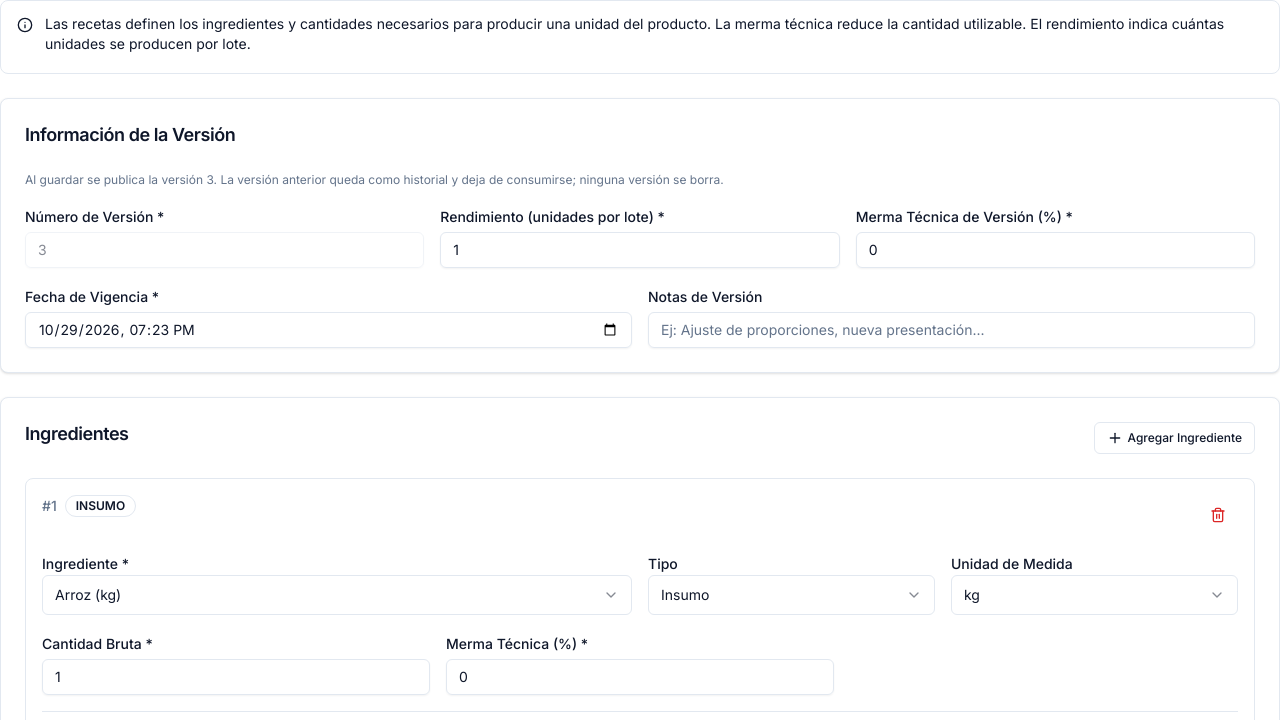
Test: RecipeForm componentes: Tipo, ingrediente y UOM (R15 / S12) › al pasar a Sub-receta se limpia el ingrediente seleccionado
Expected: the dropdown named "Unidad de Medida" reads "kg", 951,575 -> 1238,615
What coordinates should you click on to do the following:
click the dropdown named "Tipo"
I would click on:
 (685, 594)
Its box is 648,575 -> 935,615.
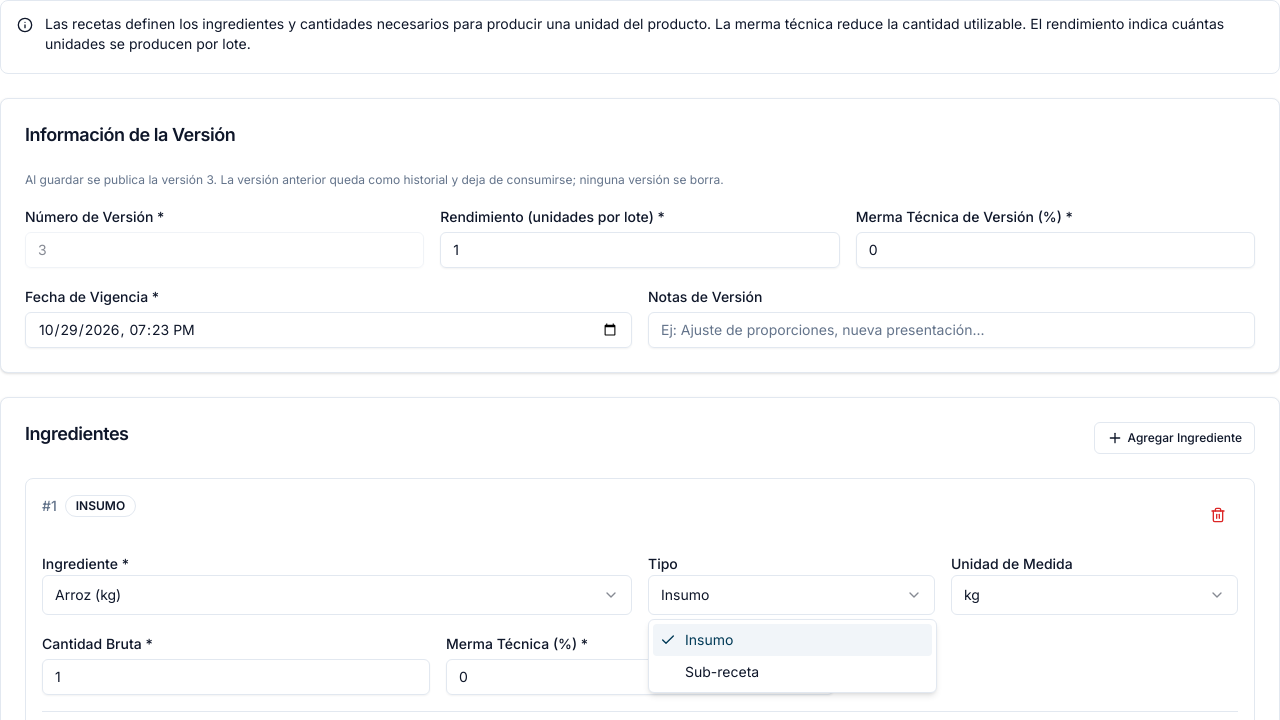
What coordinates should you click on to do the following:
click the option "Sub-receta"
I would click on:
 (722, 672)
Its box is 685,663 -> 759,680.
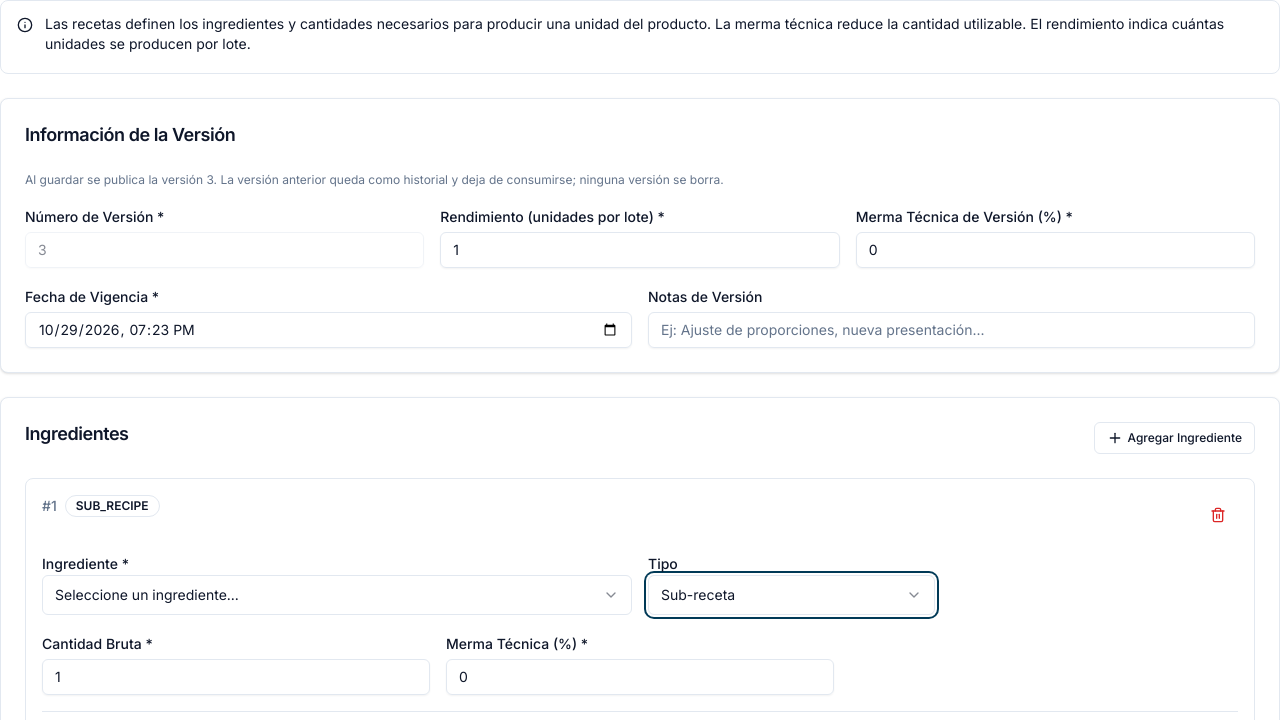
Result: the dropdown named "Tipo" reads "Sub-receta" at 648,575 -> 935,615
Result: the dropdown labelled "Seleccione un ingrediente..." is shown at 42,575 -> 632,615
